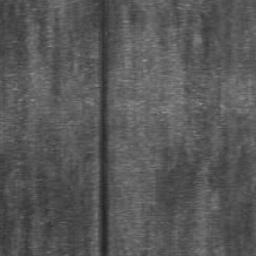Scratches: (96, 0, 109, 256)
